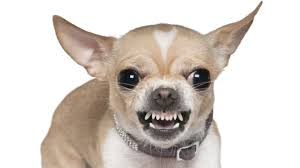chihuahua: (40, 3, 263, 167)
